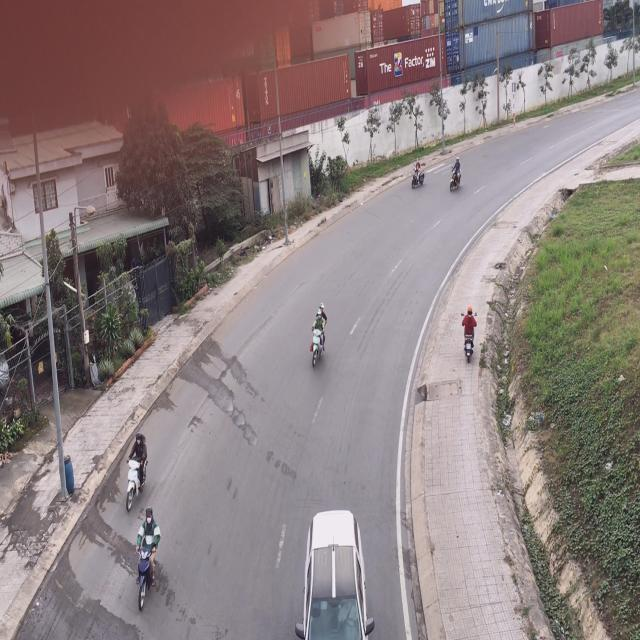car: (301, 504, 367, 639)
motorbike: (136, 507, 164, 612), (126, 432, 150, 508), (310, 303, 327, 371), (460, 303, 476, 362), (449, 156, 464, 196), (412, 158, 426, 192)
